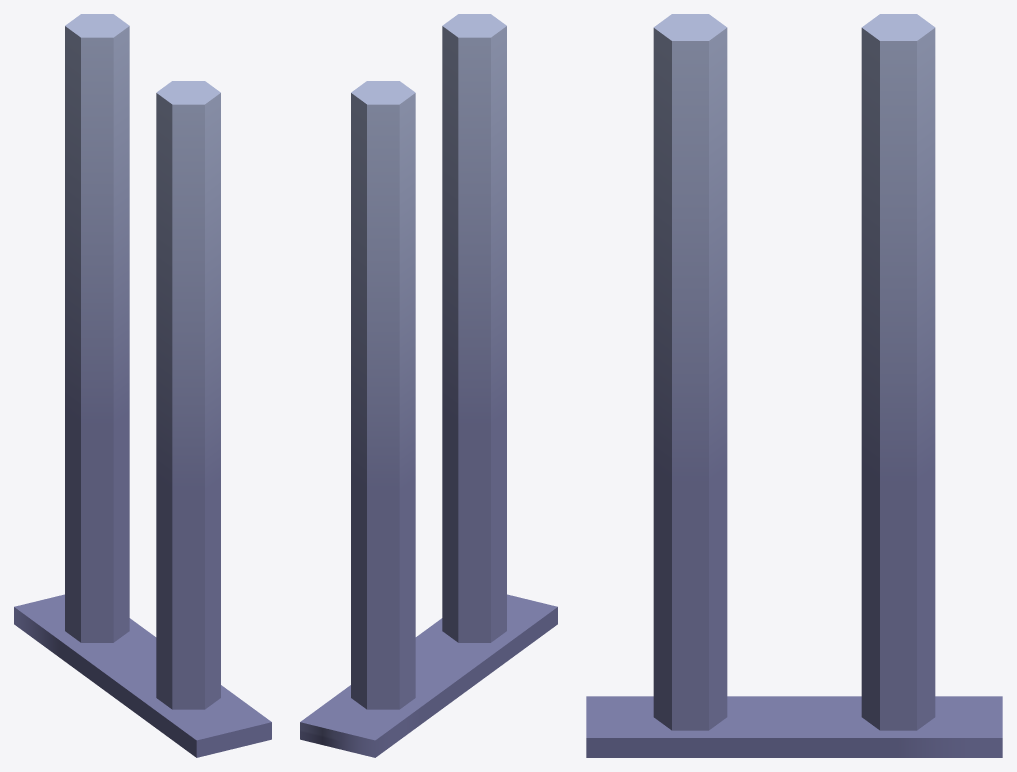
The model's file is wall_cell.fbx.
3 views of the same model, side by side, from view 1: azimuth 30°, elevation 25°; view 2: azimuth 150°, elevation 25°; view 3: azimuth 270°, elevation 25° (orthographic). The views are drawn at different scales.
Parts seen in each view (by area): view 1: wall_cell; view 2: wall_cell; view 3: wall_cell.
Boxes of the visible parts, bbox=[...] form: wall_cell: bbox=[14, 14, 271, 757]; wall_cell: bbox=[300, 14, 557, 757]; wall_cell: bbox=[586, 14, 1002, 757].
Size of the model in its own units: 0.25 by 1.98 by 1.05.
